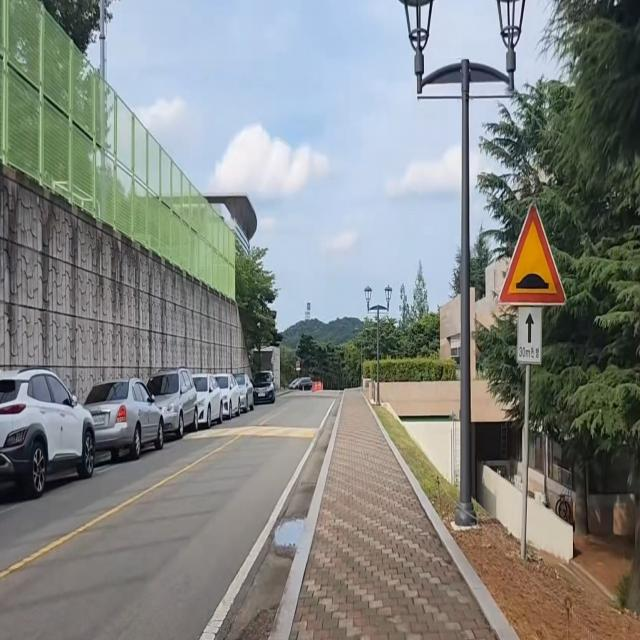obstacle: (394, 0, 533, 532), (0, 360, 278, 519)
road: (0, 396, 341, 640)
sidewalk: (272, 383, 524, 640)
